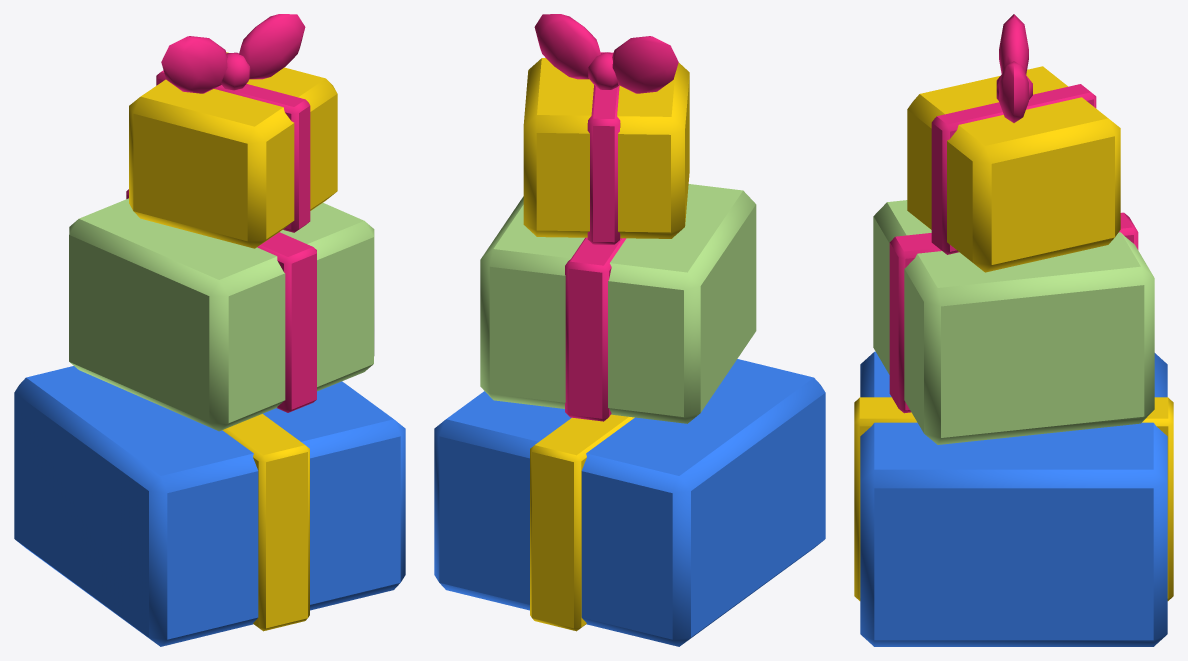
Rendered from W6_GiftBox_B.fbx.
3 renders of one model, left to right at view 1: azimuth 30°, elevation 25°; view 2: azimuth 150°, elevation 25°; view 3: azimuth 270°, elevation 25°, orthographic. The views are drawn at different scales.
Visible parts, largest first — view 1: W6_GiftBox_B; view 2: W6_GiftBox_B; view 3: W6_GiftBox_B.
Boxes of the visible parts, left/top/right/bottom form: W6_GiftBox_B: left=14, top=14, right=405, bottom=646; W6_GiftBox_B: left=434, top=14, right=825, bottom=646; W6_GiftBox_B: left=854, top=14, right=1173, bottom=646.
Bounding box in the file's own units: 1.1 × 2.22 × 1.14.
